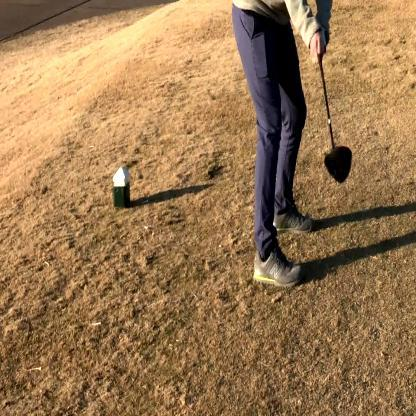GolfBall: (322, 136, 354, 184)
